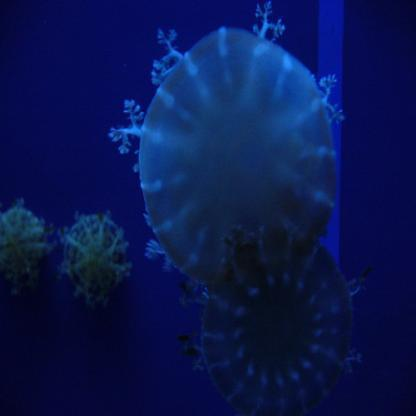Fish: (113, 5, 347, 301), (178, 232, 363, 408), (59, 213, 134, 304), (0, 197, 53, 299)
